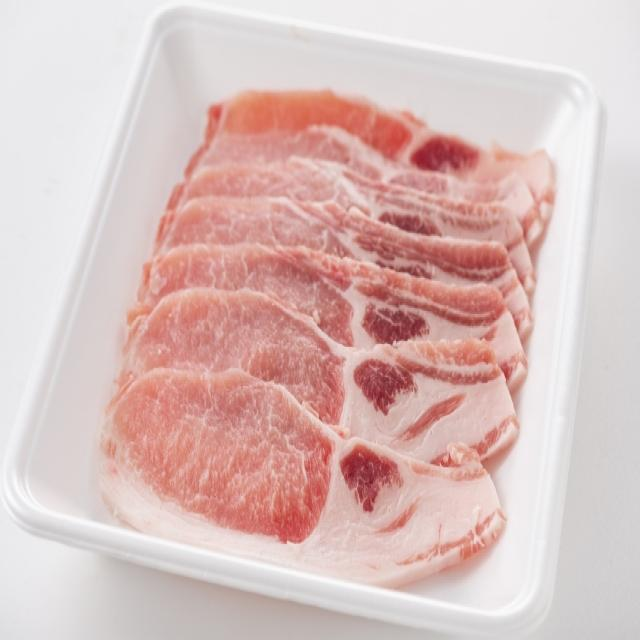Pork: (103, 371, 506, 594), (128, 288, 520, 476), (144, 248, 532, 398)
